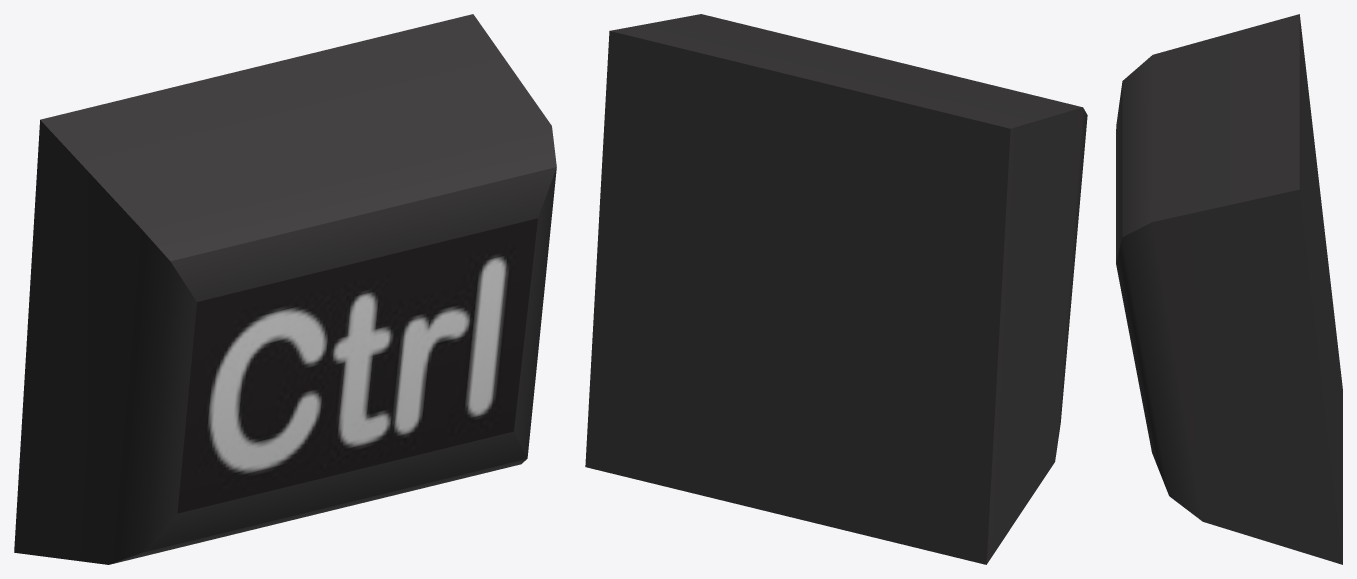
File: ctrlKey.fbx
The picture shows the model from 3 angles, left to right: view 1: azimuth 30°, elevation 25°; view 2: azimuth 150°, elevation 25°; view 3: azimuth 270°, elevation 25°; orthographic projection. The views are drawn at different scales.
Visible parts, largest first — view 1: crtlKey1; view 2: crtlKey1; view 3: crtlKey1.
Boxes of the visible parts, x1=… form: crtlKey1: x1=14, y1=14, x2=556, y2=564; crtlKey1: x1=585, y1=14, x2=1087, y2=564; crtlKey1: x1=1116, y1=14, x2=1342, y2=564.
Size of the model in its own units: 0.9975 by 0.9946 by 0.5447.
2 materials, 1 textured.
